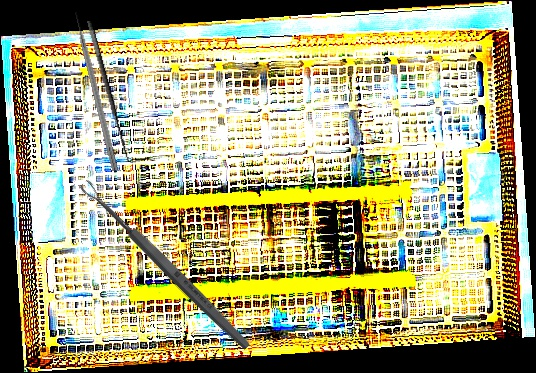Hook Surgical: (85, 17, 142, 166), (72, 10, 121, 172)
Surgical Spoon: (78, 177, 253, 353)
